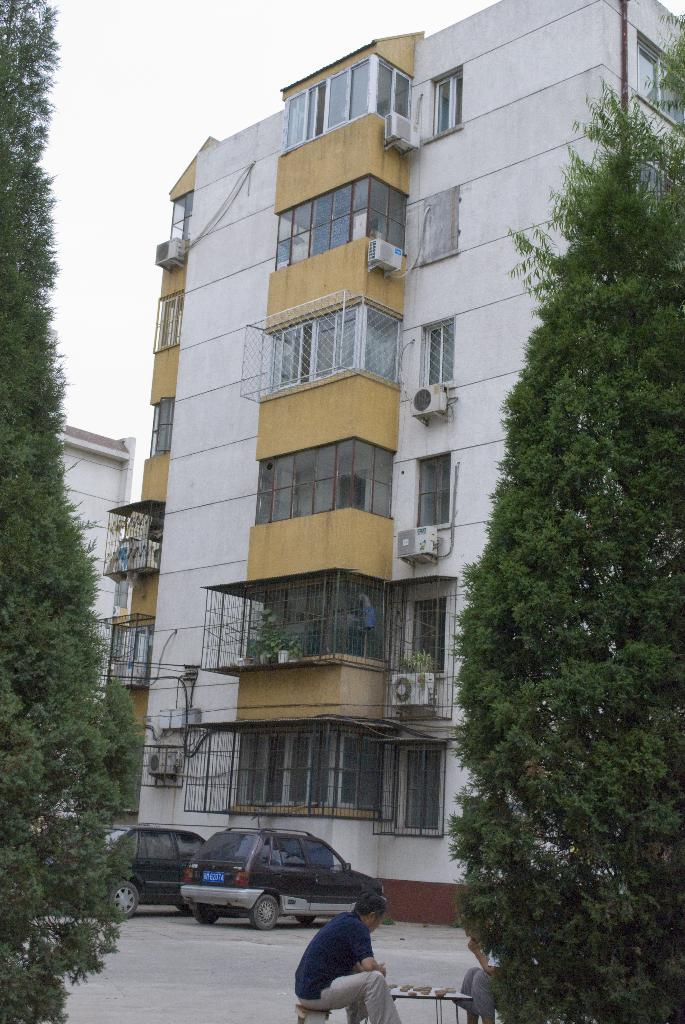Tree: (441, 0, 684, 1023), (0, 0, 147, 1023)
